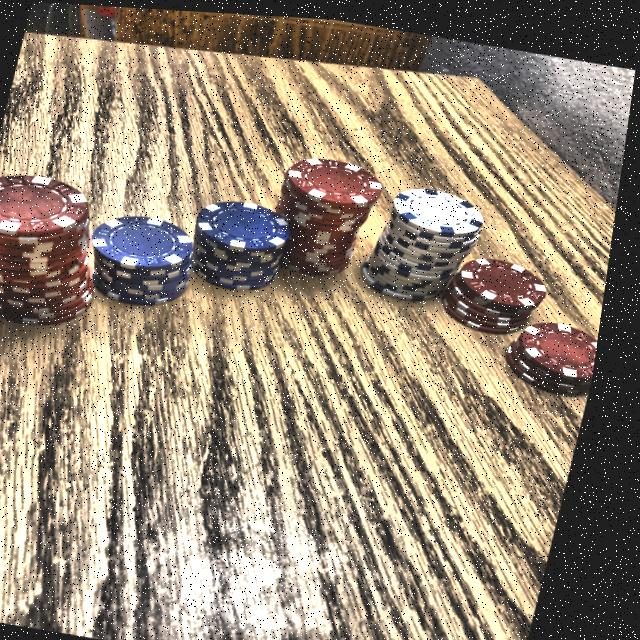Chip: (0, 153, 137, 350), (352, 163, 499, 318), (260, 134, 399, 295), (78, 198, 211, 320), (427, 231, 559, 352), (178, 186, 300, 297), (494, 289, 611, 403)
